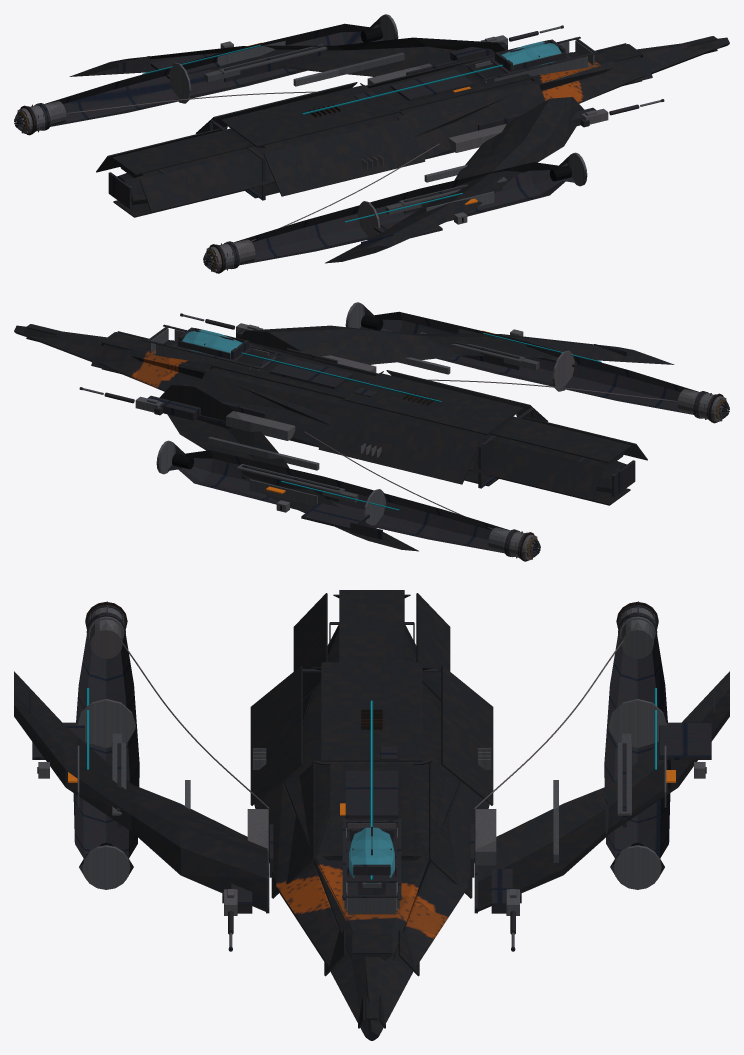
Rendered from wasp_production_v1_lod0.glb.
3 views of the same model, one above another, from view 1: azimuth 30°, elevation 25°; view 2: azimuth 150°, elevation 25°; view 3: azimuth 270°, elevation 25° (orthographic). The views are drawn at different scales.
Parts seen in each view (by area): view 1: LOD0_Hull, LOD0_Armor, LOD0_Mechanical, LOD0_Accent, LOD0_Canopy, LOD0_Thruster; view 2: LOD0_Hull, LOD0_Armor, LOD0_Mechanical, LOD0_Accent, LOD0_Canopy, LOD0_Thruster; view 3: LOD0_Hull, LOD0_Armor, LOD0_Mechanical, LOD0_Canopy, LOD0_Accent, LOD0_Radiator.
Boxes of the visible parts, left/top/right/bottom form: LOD0_Hull: left=69, top=36, right=729, bottom=263; LOD0_Armor: left=14, top=17, right=664, bottom=271; LOD0_Mechanical: left=17, top=14, right=661, bottom=273; LOD0_Accent: left=142, top=45, right=502, bottom=222; LOD0_Canopy: left=501, top=41, right=561, bottom=69; LOD0_Thruster: left=16, top=27, right=571, bottom=262; LOD0_Hull: left=14, top=324, right=674, bottom=551; LOD0_Armor: left=79, top=305, right=729, bottom=559; LOD0_Mechanical: left=82, top=302, right=726, bottom=560; LOD0_Accent: left=241, top=333, right=601, bottom=510; LOD0_Canopy: left=182, top=329, right=242, bottom=357; LOD0_Thruster: left=172, top=315, right=727, bottom=550; LOD0_Hull: left=14, top=590, right=729, bottom=1040; LOD0_Armor: left=29, top=605, right=714, bottom=951; LOD0_Mechanical: left=38, top=601, right=705, bottom=946; LOD0_Canopy: left=349, top=827, right=394, bottom=877; LOD0_Accent: left=87, top=688, right=656, bottom=883; LOD0_Radiator: left=85, top=602, right=658, bottom=729.
Size of what is drawn, in the model's own units: 20.9 by 2.23 by 14.96.
Materials: 9 (9 with a texture image).
